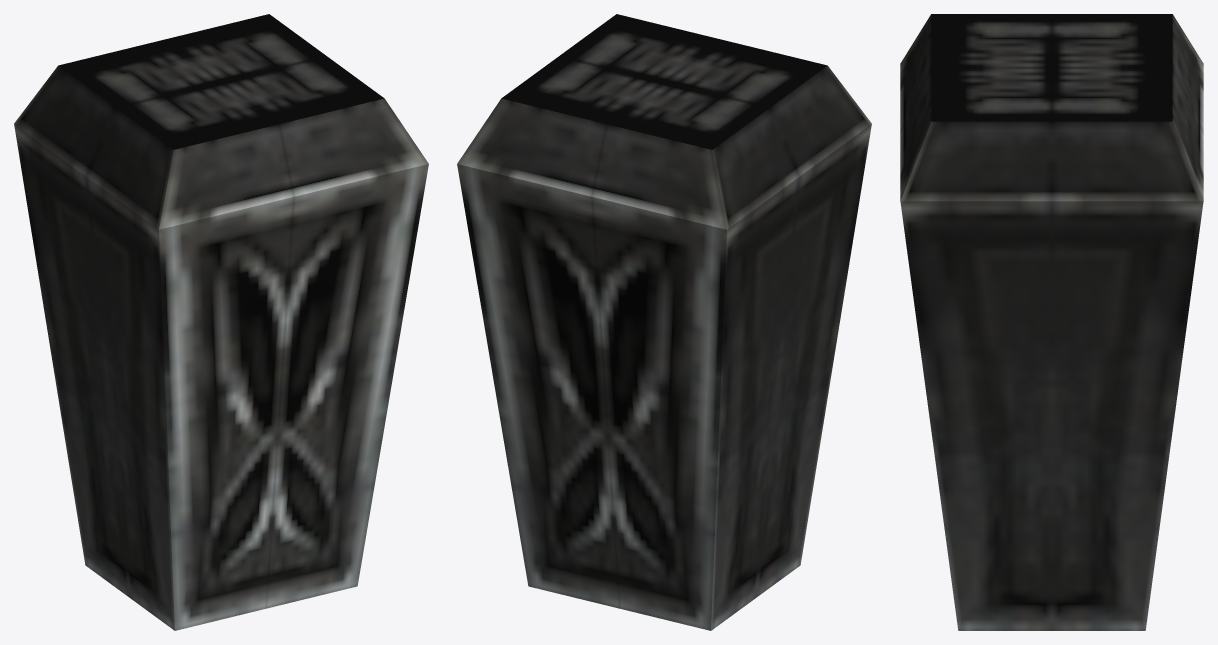
File: Hammer_tail_default.FBX
The picture shows the model from 3 angles, left to right: view 1: azimuth 30°, elevation 25°; view 2: azimuth 150°, elevation 25°; view 3: azimuth 270°, elevation 25°; orthographic projection. The views are drawn at different scales.
Visible parts, largest first — view 1: Hammer_tail_default; view 2: Hammer_tail_default; view 3: Hammer_tail_default.
Boxes of the visible parts, bbox=[...] form: Hammer_tail_default: bbox=[14, 14, 428, 630]; Hammer_tail_default: bbox=[457, 14, 871, 630]; Hammer_tail_default: bbox=[900, 14, 1203, 630].
Bounding box in the file's own units: 8.95 × 15.64 × 8.32.
1 material, 1 textured.
